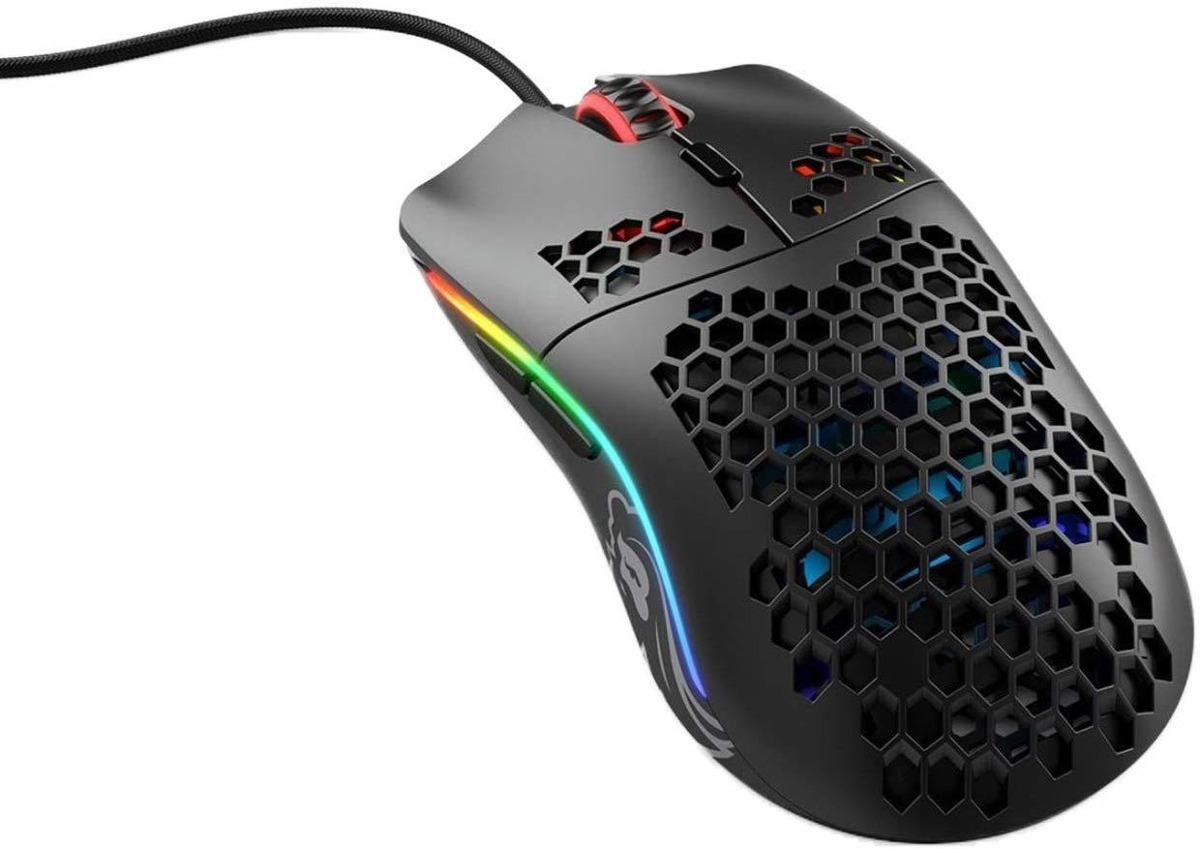mouse: (387, 63, 1200, 847)
